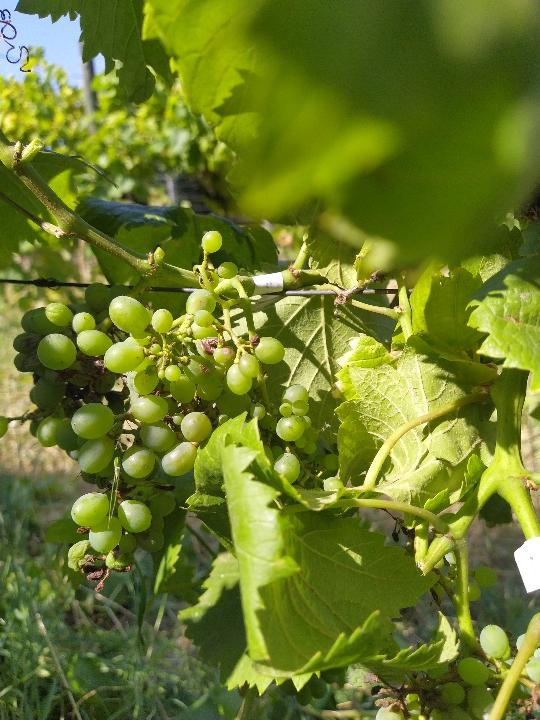grape: (3, 229, 337, 595)
